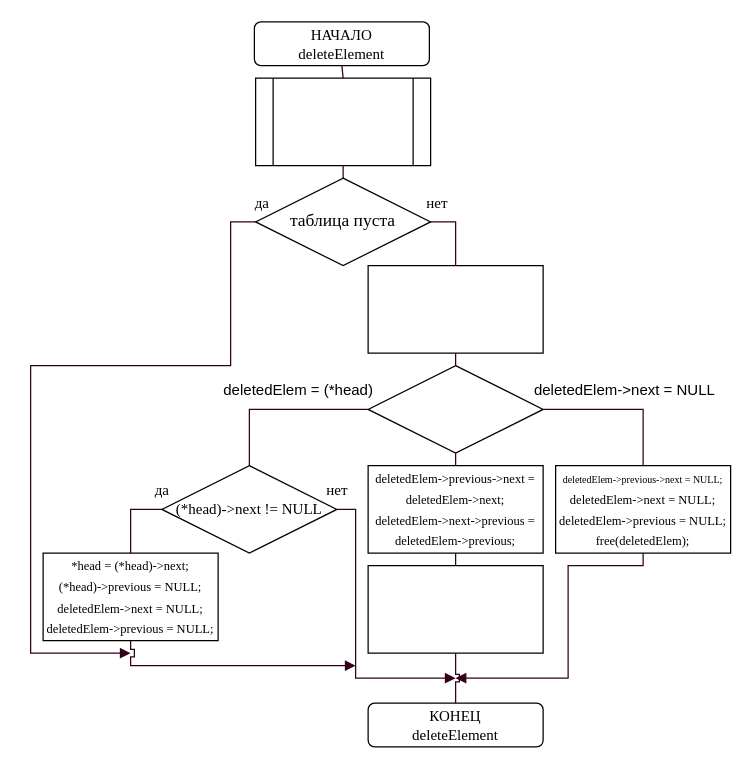
The diagram is 753 pixels wide and 769 high, and some of its shapes have lost their labels. Here are the shapes that lost their labels. From the top down, the centre of each, then its label:
[342,121]: system("cls");
[455,308]: Element *deletedElem = *head; deletedElem = selectElement(deletedElem);
[455,408]: сравнить deletedElem является ли он первым или последним
[455,608]: deletedElem->next = NULL; deletedElem->previous = NULL; free(deletedElem);
